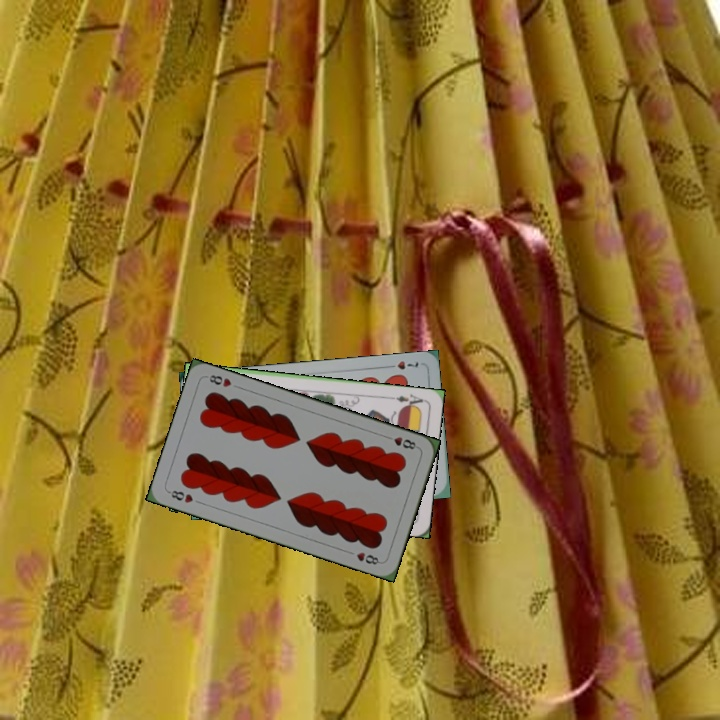EA: (386, 390, 427, 411)
H7: (382, 357, 421, 372)
H8: (381, 432, 421, 452), (164, 486, 196, 506)
